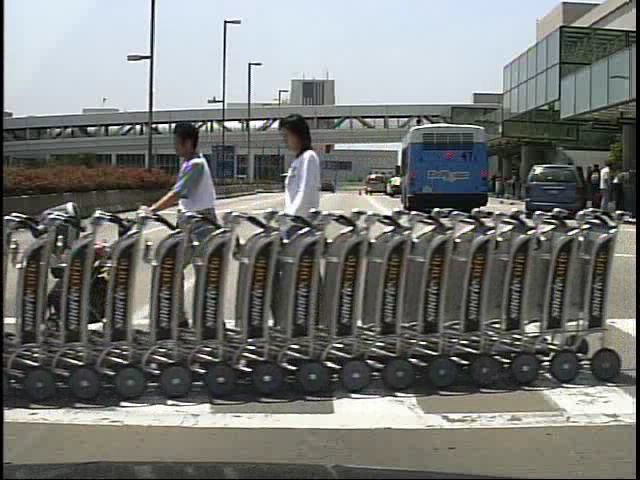person: (270, 115, 346, 349), (145, 120, 226, 339), (596, 160, 617, 212), (587, 164, 604, 212)
